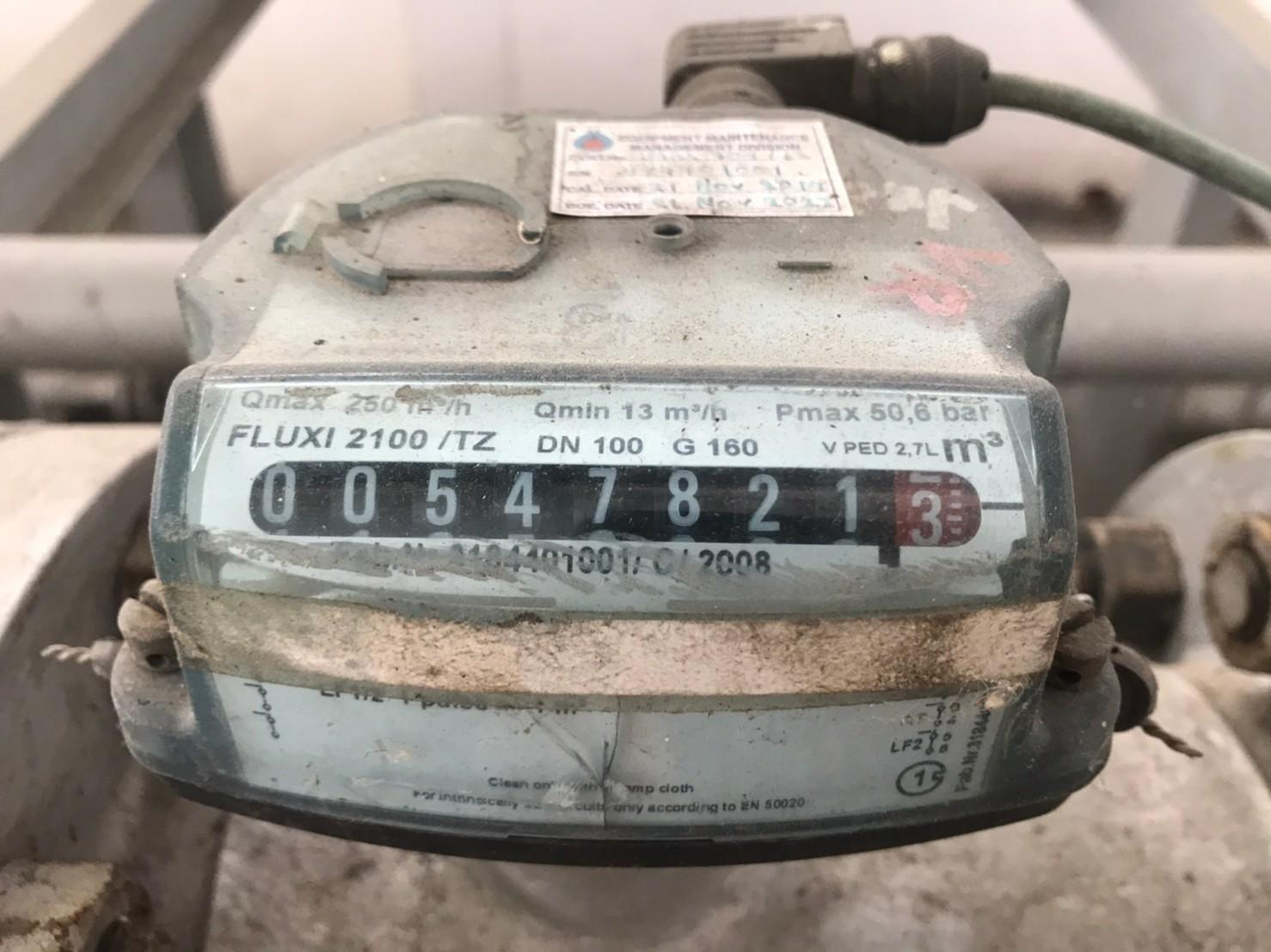analog_dial: (241, 452, 1023, 557)
